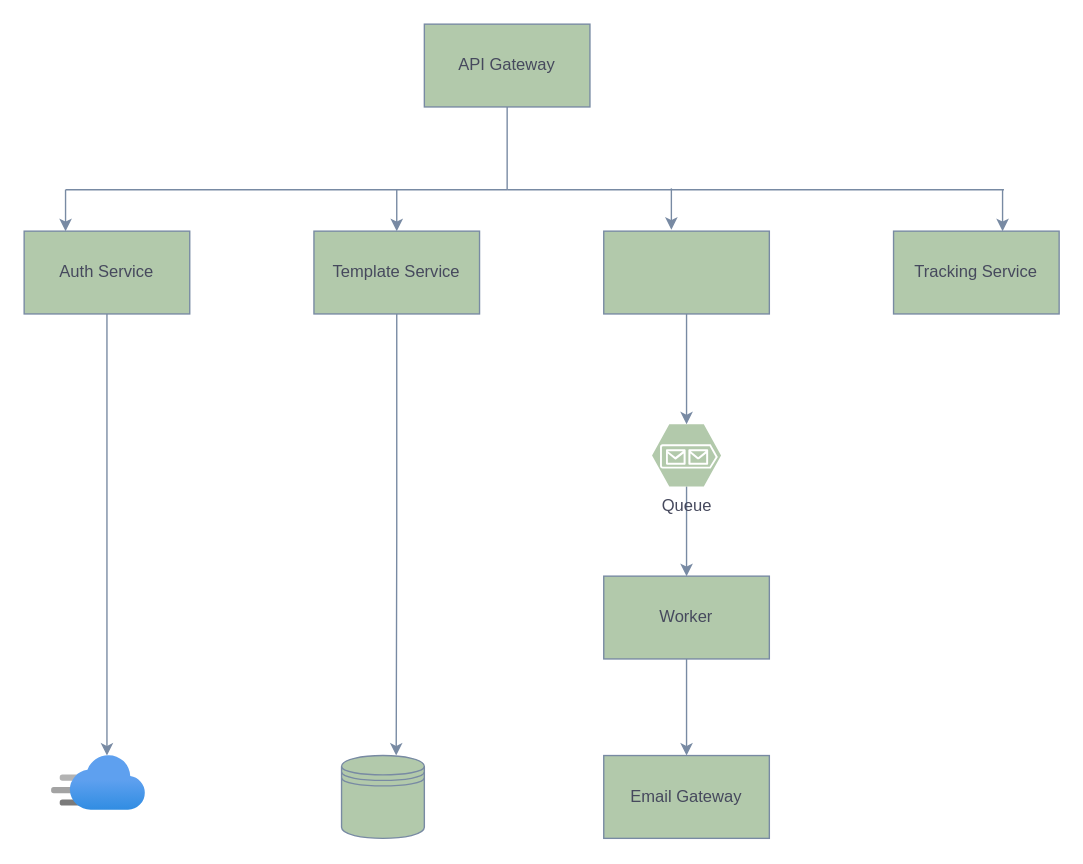
Some shapes in this 1083 by 864 pixel diagram are drawn without their labels. The box of each missing label's shape, as (x1, y1, x2, y2) in pixels:
CDN: (51, 755, 145, 810)
DB: (340, 754, 424, 838)
Email Service: (602, 230, 769, 314)
